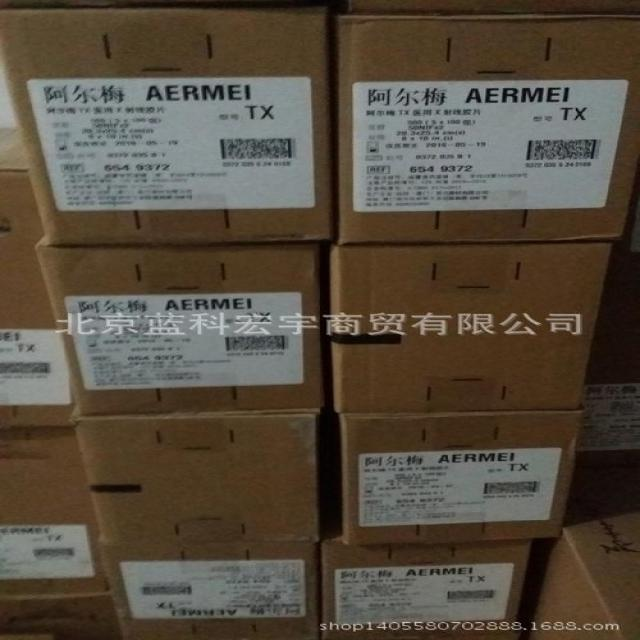box: (0, 4, 339, 242), (338, 0, 639, 245), (30, 231, 320, 416), (330, 242, 608, 416), (340, 410, 579, 543), (74, 411, 313, 543), (0, 428, 124, 636), (317, 536, 536, 638), (103, 539, 320, 639), (2, 125, 73, 429), (505, 479, 639, 638), (570, 239, 639, 480)
